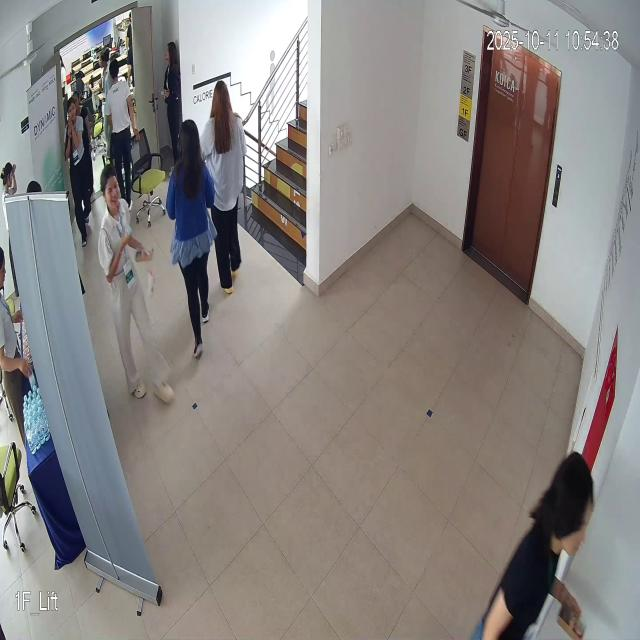face: (96, 161, 125, 221)
